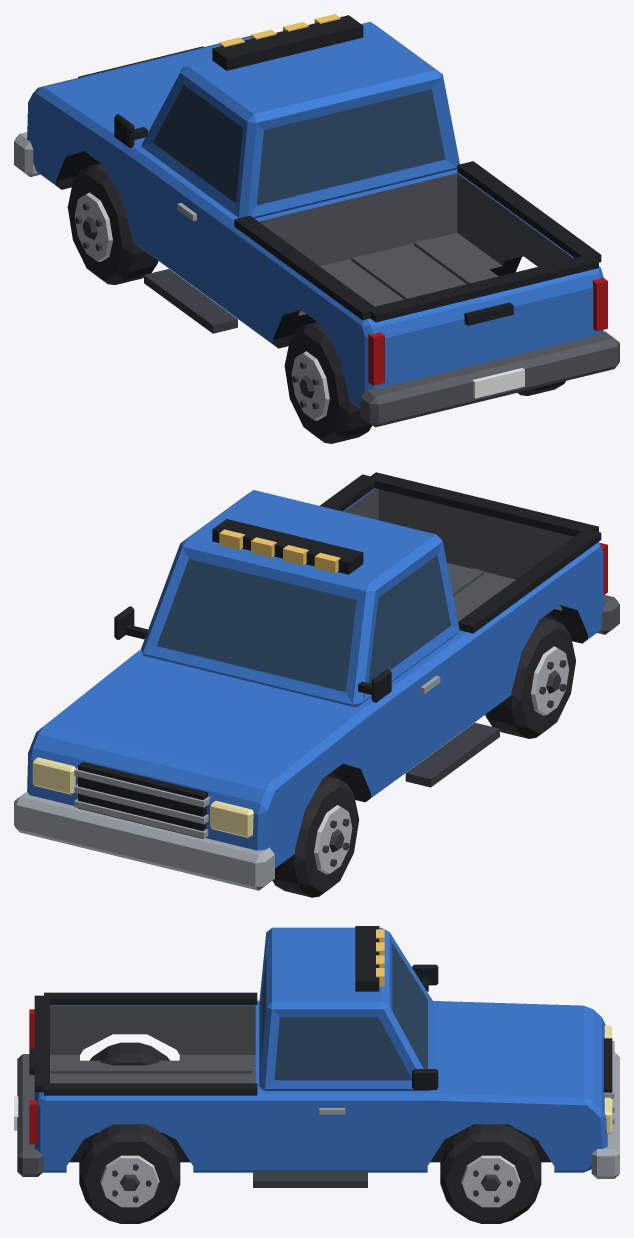
The model's file is Truck_Blue.glb.
3 views of the same model, one above another, from view 1: azimuth 30°, elevation 25°; view 2: azimuth 150°, elevation 25°; view 3: azimuth 270°, elevation 25° (orthographic). The views are drawn at different scales.
Visible parts, largest first — view 1: Truck_Blue_Body, Truck_Blue_Wheel_FL, Truck_Blue_Wheel_RL; view 2: Truck_Blue_Body, Truck_Blue_Wheel_RL, Truck_Blue_Wheel_FL; view 3: Truck_Blue_Body, Truck_Blue_Wheel_RR, Truck_Blue_Wheel_FR, Truck_Blue_Wheel_RL.
Part boxes in pixels (x1,y1,x2,y2): Truck_Blue_Body: (14, 14, 619, 427); Truck_Blue_Wheel_FL: (67, 163, 158, 284); Truck_Blue_Wheel_RL: (284, 322, 372, 443); Truck_Blue_Body: (14, 472, 619, 890); Truck_Blue_Wheel_RL: (485, 617, 575, 738); Truck_Blue_Wheel_FL: (272, 775, 359, 897); Truck_Blue_Body: (14, 926, 619, 1187); Truck_Blue_Wheel_RR: (79, 1124, 180, 1223); Truck_Blue_Wheel_FR: (440, 1124, 541, 1223); Truck_Blue_Wheel_RL: (90, 1042, 169, 1065).
Bounding box in the file's own units: 2.52 × 2.28 × 5.54.
Materials: 1 (1 with a texture image).
